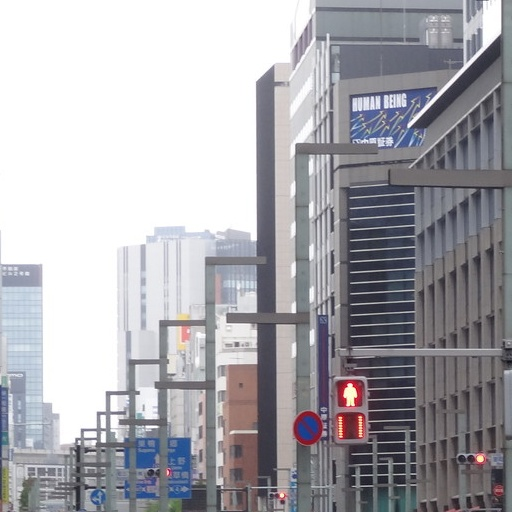Pedestrian_Signal_Red: (327, 367, 372, 441)
